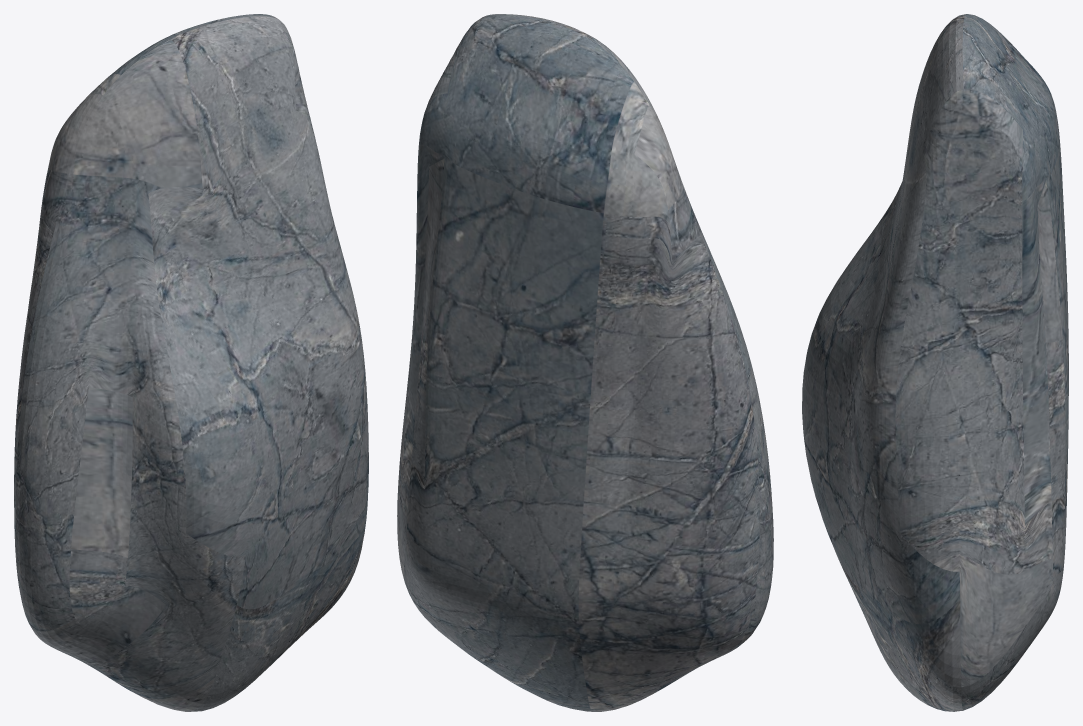
The model's file is rock2.obj.
3 views of the same model, side by side, from view 1: azimuth 30°, elevation 25°; view 2: azimuth 150°, elevation 25°; view 3: azimuth 270°, elevation 25° (orthographic). The views are drawn at different scales.
Visible parts, largest first — view 1: Rock.Landscape.Style_4_Rock.Landscape.Style_4.Mesh; view 2: Rock.Landscape.Style_4_Rock.Landscape.Style_4.Mesh; view 3: Rock.Landscape.Style_4_Rock.Landscape.Style_4.Mesh.
Part boxes in pixels (x1,y1,x2,y2): Rock.Landscape.Style_4_Rock.Landscape.Style_4.Mesh: [14, 14, 368, 711]; Rock.Landscape.Style_4_Rock.Landscape.Style_4.Mesh: [397, 14, 773, 711]; Rock.Landscape.Style_4_Rock.Landscape.Style_4.Mesh: [802, 14, 1068, 711].
Bounding box in the file's own units: 2.42 × 4.47 × 1.58.
Materials: 1 (1 with a texture image).
